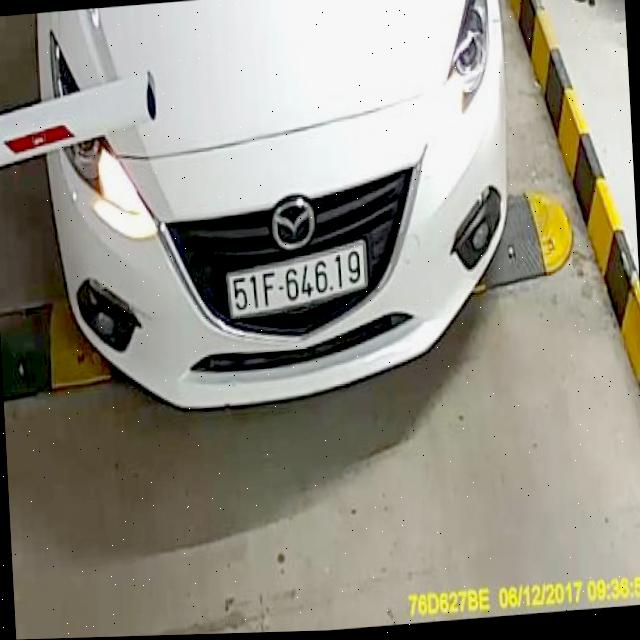car: (19, 0, 532, 429)
plate: (226, 244, 372, 320)
